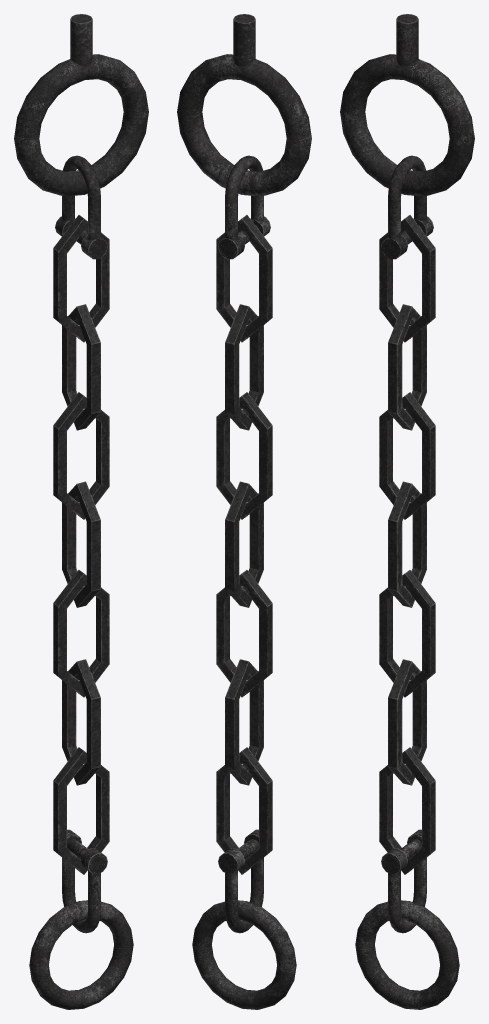
File: chain_02.fbx
3 renders of one model, left to right at view 1: azimuth 30°, elevation 25°; view 2: azimuth 150°, elevation 25°; view 3: azimuth 330°, elevation 25°, orthographic.
Parts seen in each view (by area): view 1: chain_02; view 2: chain_02; view 3: chain_02.
Part boxes in pixels (bbox=[...]): chain_02: bbox=[14, 14, 148, 1009]; chain_02: bbox=[177, 14, 311, 1009]; chain_02: bbox=[340, 14, 474, 1009].
Size of the model in its own units: 32.56 by 234 by 14.13.
